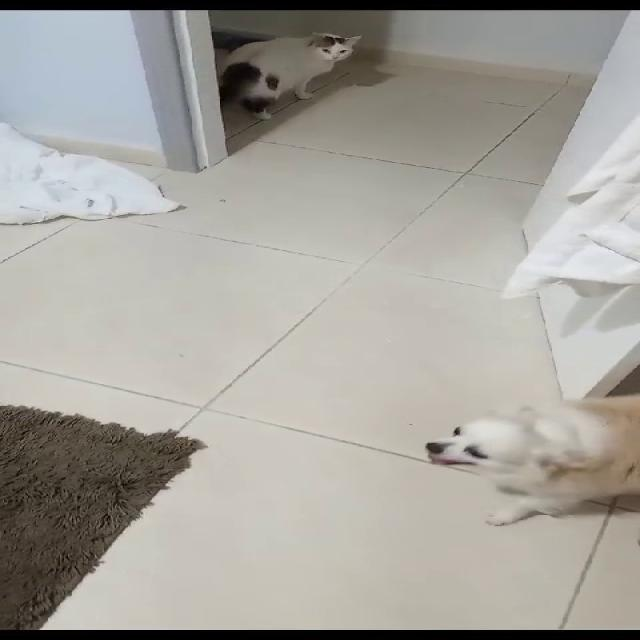Simba: (225, 21, 382, 147)
Theo: (426, 381, 638, 533)
